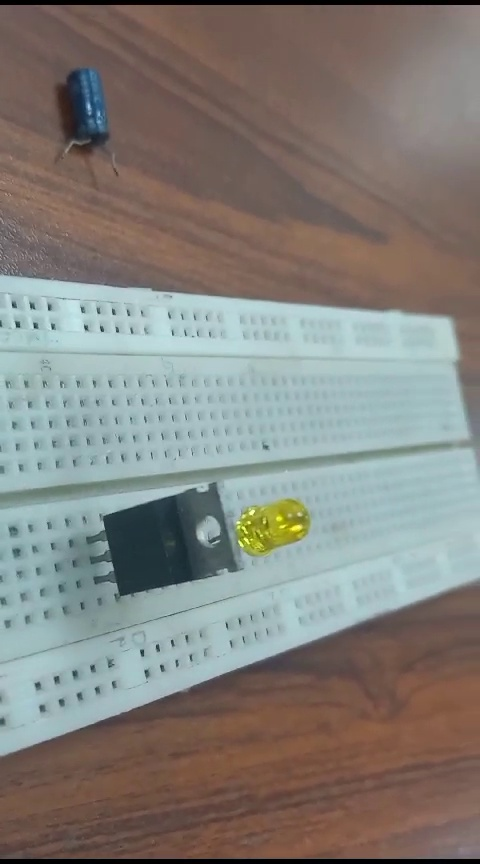LED: (235, 493, 315, 555)
voltage regulator: (75, 492, 247, 589)
